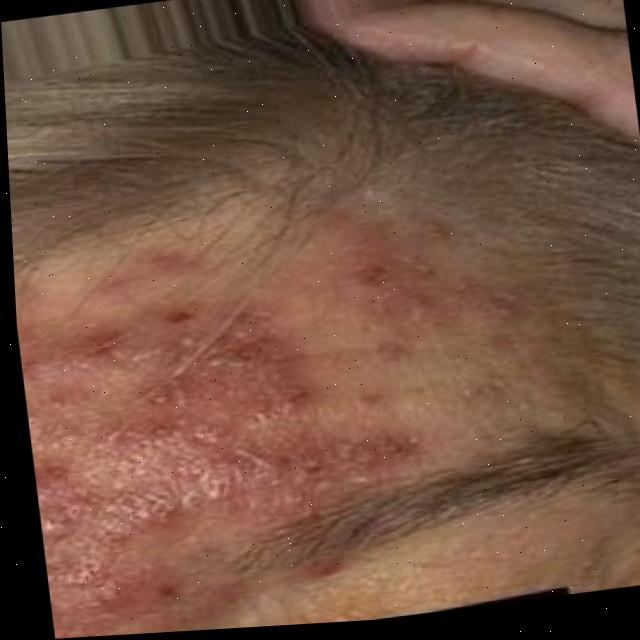Rosacea: (13, 230, 466, 640)
